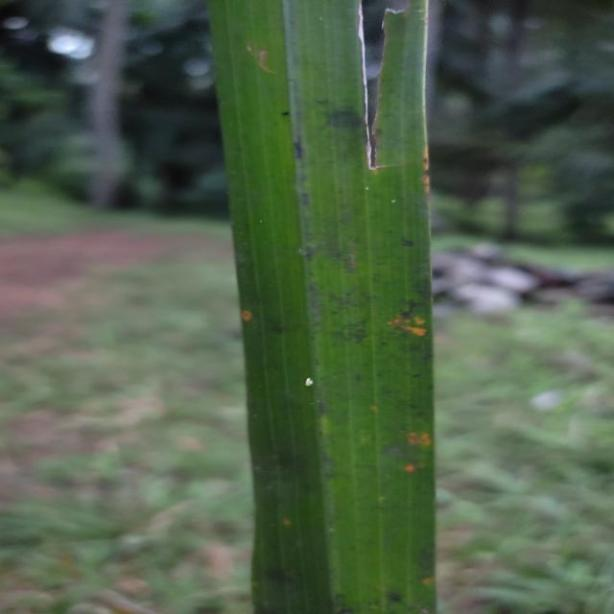Boron: (205, 0, 443, 614)
